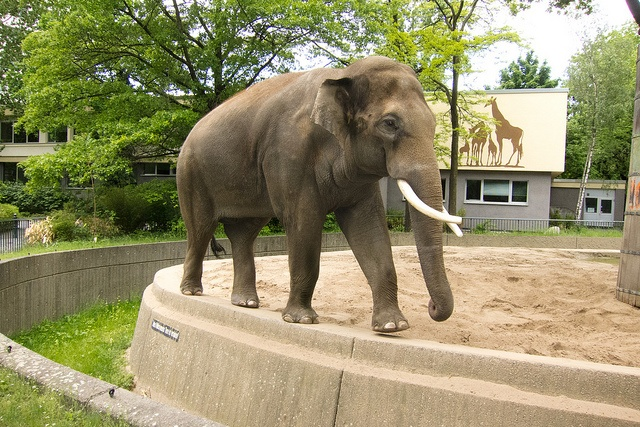elephant: (175, 56, 461, 333)
